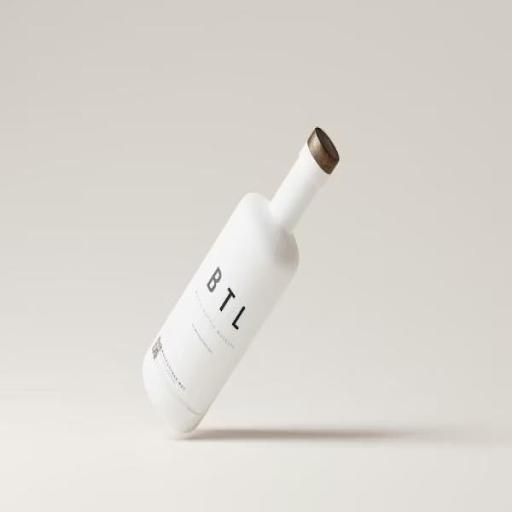bottle: (140, 120, 344, 444)
